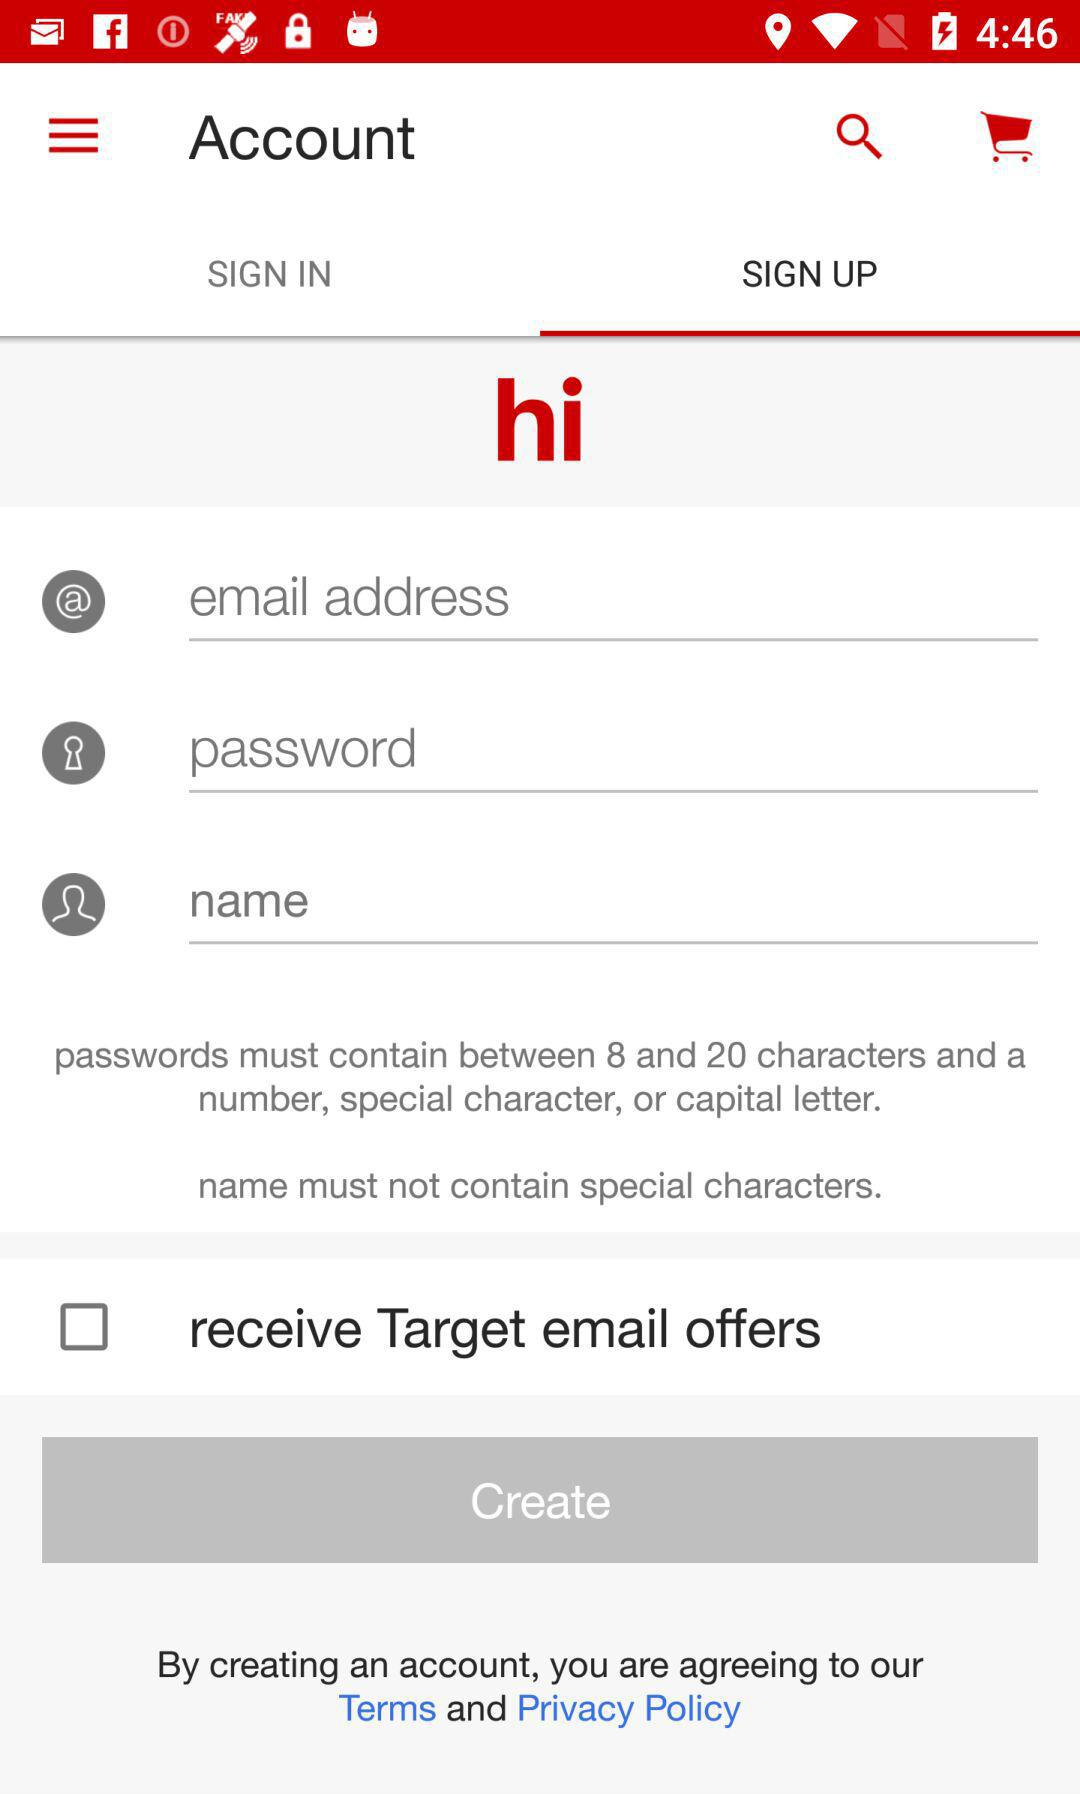CheckedTextView: (60, 1302, 822, 1361)
EditText: (190, 575, 1040, 643), (190, 727, 1039, 794), (190, 891, 1039, 946)
Icon: (42, 570, 108, 636), (42, 871, 108, 937), (978, 110, 1034, 165), (837, 113, 883, 161), (47, 117, 100, 155)
Image: (42, 721, 108, 786)
Text: (56, 1041, 1027, 1119), (159, 1650, 925, 1730), (192, 1307, 822, 1361), (200, 1170, 881, 1207), (191, 575, 510, 618), (192, 727, 416, 779), (190, 115, 416, 161), (497, 375, 584, 463), (742, 260, 878, 290), (208, 260, 332, 290), (192, 891, 310, 918)
TextButton: (42, 1436, 1038, 1565)
UpperTaskBar: (1, 1, 1080, 64)
